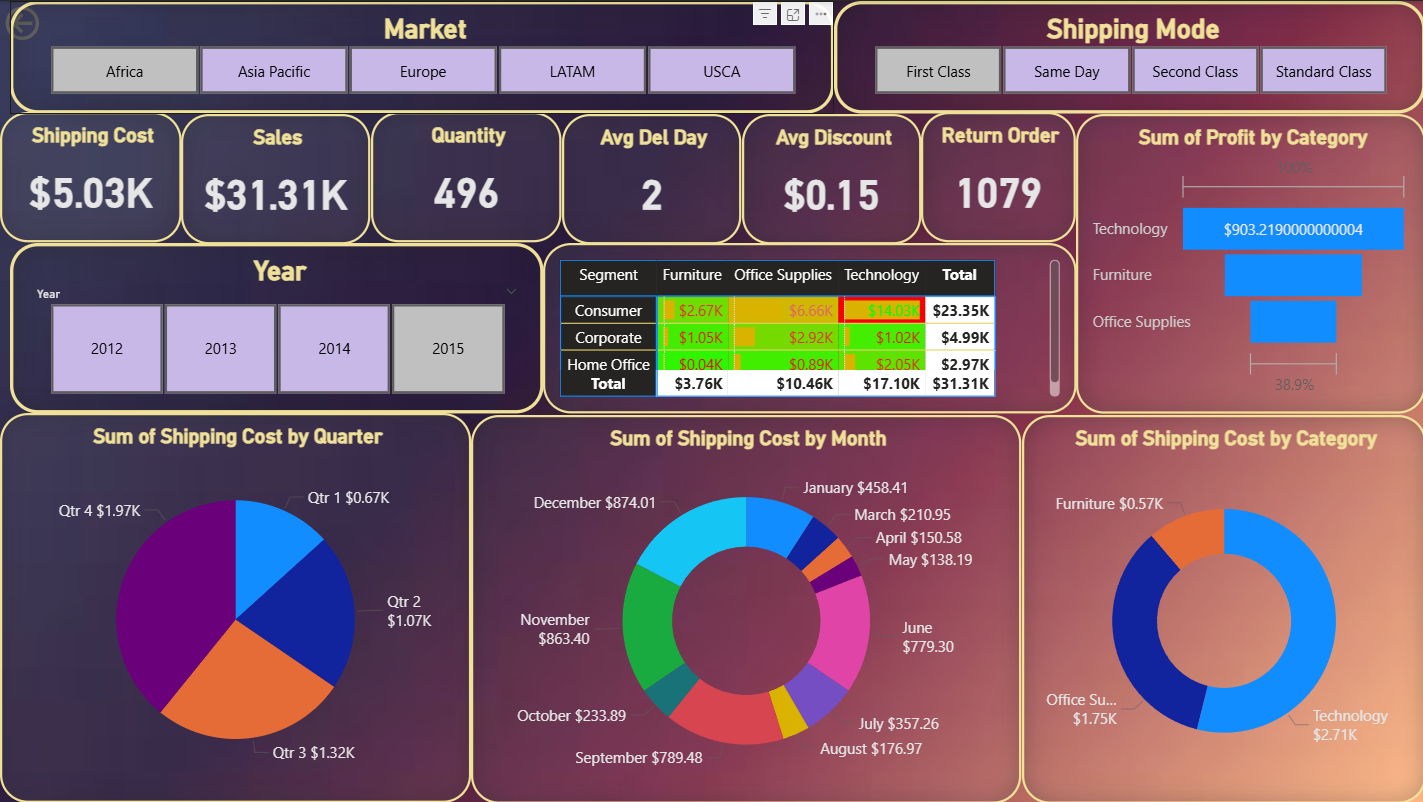

What the dashboard file says about the page in this screenshot:
{"tool":"powerbi","page":{"name":"Product Dashboard","canvas":[1280,720],"ordinal":1},"visuals":[{"type":"card","title":"Sales","fields":{"Values":["Sum(Orders.Sales)"]},"box":[162.9,101.4,170,117.1],"z":0},{"type":"card","title":"Quantity","fields":{"Values":["Sum(Orders.Quantity)"]},"box":[332.9,100,171.4,117.1],"z":1000},{"type":"card","title":"Avg Del Day","fields":{"Values":["Avg(Orders.Delivery_Days)"]},"box":[504.3,101.4,161.4,117.1],"z":2000},{"type":"slicer","title":"Year","fields":{"Values":["Orders.Year"]},"box":[8.6,217.1,478.6,152.9],"z":3000},{"type":"card","title":"Return Order","fields":{"Values":["Sum(Returns.Returned_Orders)"]},"box":[827.1,100,138.6,117.1],"z":4000},{"type":"actionButton","box":[0,0,100,40],"z":5000},{"type":"slicer","title":"Shipping Mode","fields":{"Values":["Orders.Ship Mode"]},"box":[748.6,0,531.4,101.4],"z":6000},{"type":"card","title":"Shipping Cost","fields":{"Values":["Sum(Orders.Shipping Cost)"]},"box":[0,100,162.9,117.1],"z":7000},{"type":"slicer","title":"Market","fields":{"Values":["Orders.Market"]},"box":[8.6,0,740,101.4],"z":8000},{"type":"pieChart","fields":{"Category":["Orders.Ship Date.Variation.Date Hierarchy.Quarter"],"Y":["Sum(Orders.Shipping Cost)"]},"box":[0,370,422.9,350],"z":9000},{"type":"donutChart","fields":{"Y":["Sum(Orders.Shipping Cost)"],"Category":["Orders.Ship Date.Variation.Date Hierarchy.Month"]},"box":[422.9,371.4,494.3,348.6],"z":10000},{"type":"pivotTable","fields":{"Rows":["Orders.Segment"],"Values":["Sum(Orders.Sales)"],"Columns":["Orders.Category"]},"box":[487.1,217.1,478.6,152.9],"z":11000},{"type":"donutChart","fields":{"Y":["Sum(Orders.Shipping Cost)"],"Category":["Orders.Category"]},"box":[917.1,371.4,362.9,348.6],"z":12000},{"type":"card","title":"Avg Discount","fields":{"Values":["Avg(Orders.Discount)"]},"box":[665.7,101.4,161.4,117.1],"z":12001},{"type":"funnel","fields":{"Category":["Orders.Category"],"Y":["Sum(Orders.Profit)"]},"box":[965.7,101.4,314.3,268.6],"z":12002}]}

Visuals, with their boxes in screenshot pixels (x1, y1, x2, y2), scaled from the page's 1280x720 canvas onto the 1423x802 screenshot:
"Sales" card: bbox=[181, 113, 370, 243]
"Quantity" card: bbox=[370, 111, 561, 242]
"Avg Del Day" card: bbox=[561, 113, 740, 243]
"Year" slicer: bbox=[10, 242, 542, 412]
"Return Order" card: bbox=[920, 111, 1074, 242]
actionButton: bbox=[0, 0, 111, 45]
"Shipping Mode" slicer: bbox=[832, 0, 1422, 113]
"Shipping Cost" card: bbox=[0, 111, 181, 242]
"Market" slicer: bbox=[10, 0, 832, 113]
pieChart - Orders.Ship Date.Variation.Date Hierarchy.Quarter x Sum(Orders.Shipping Cost): bbox=[0, 412, 470, 801]
donutChart - Sum(Orders.Shipping Cost) x Orders.Ship Date.Variation.Date Hierarchy.Month: bbox=[470, 414, 1020, 801]
pivotTable - Orders.Segment x Sum(Orders.Sales): bbox=[542, 242, 1074, 412]
donutChart - Sum(Orders.Shipping Cost) x Orders.Category: bbox=[1020, 414, 1422, 801]
"Avg Discount" card: bbox=[740, 113, 920, 243]
funnel - Orders.Category x Sum(Orders.Profit): bbox=[1074, 113, 1422, 412]
